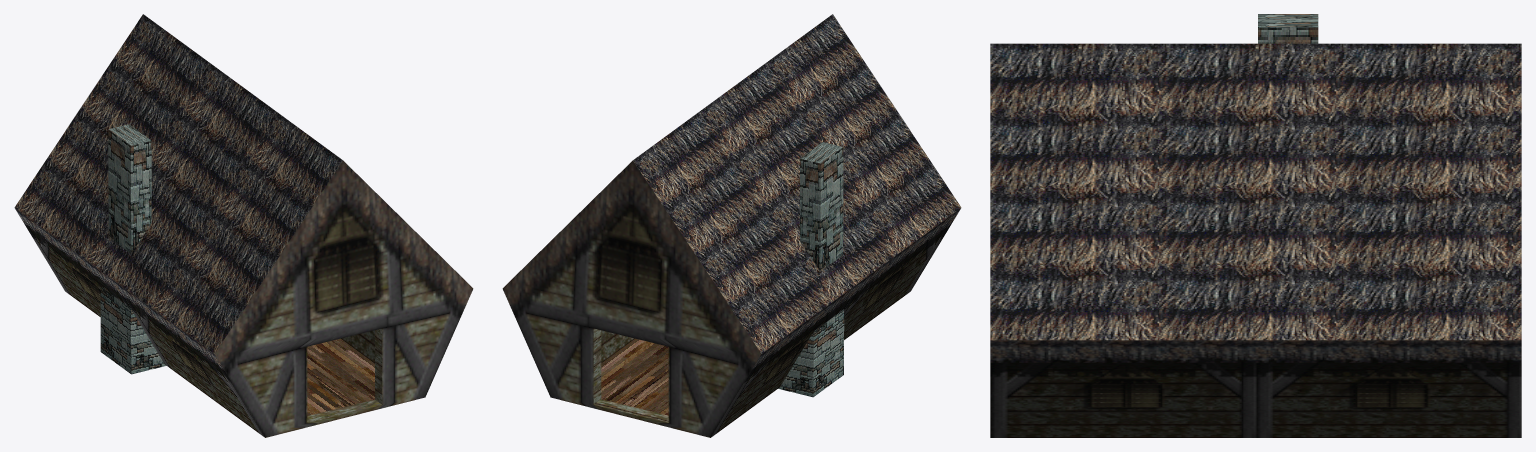
The model's file is RHouse.fbx.
3 renders of one model, left to right at view 1: azimuth 30°, elevation 25°; view 2: azimuth 150°, elevation 25°; view 3: azimuth 270°, elevation 25°, orthographic. The views are drawn at different scales.
Visible parts, largest first — view 1: RHOUSE; view 2: RHOUSE; view 3: RHOUSE.
Part boxes in pixels (bbox=[...]): RHOUSE: bbox=[14, 14, 473, 437]; RHOUSE: bbox=[502, 14, 961, 437]; RHOUSE: bbox=[990, 14, 1521, 437].
Bounding box in the file's own units: 34.47 × 33.11 × 46.13.
